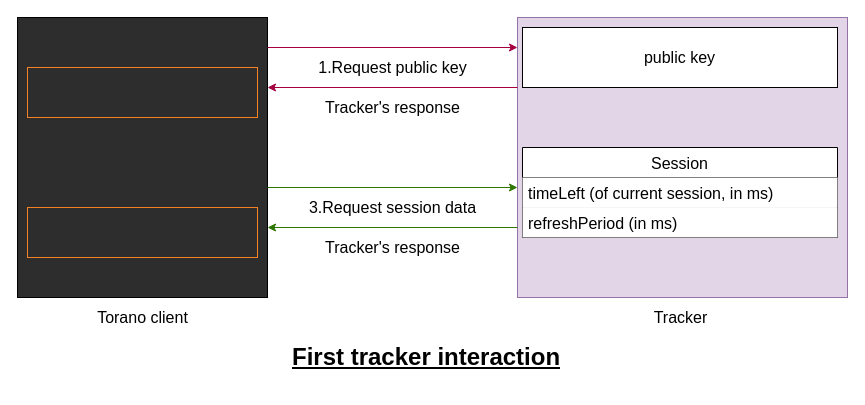
The diagram is 865 pixels wide and 405 high, and some of its shapes have lost their labels. Each missing label, with the centre of its shape:
"2. store tracker public key" goes at (142,92).
"4. store session data and start refreshing daemon" goes at (142,232).
